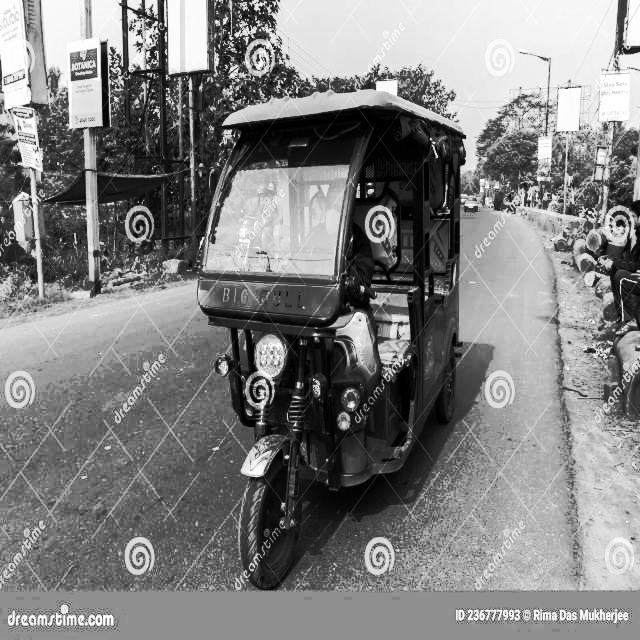Toto: (197, 91, 471, 593)
